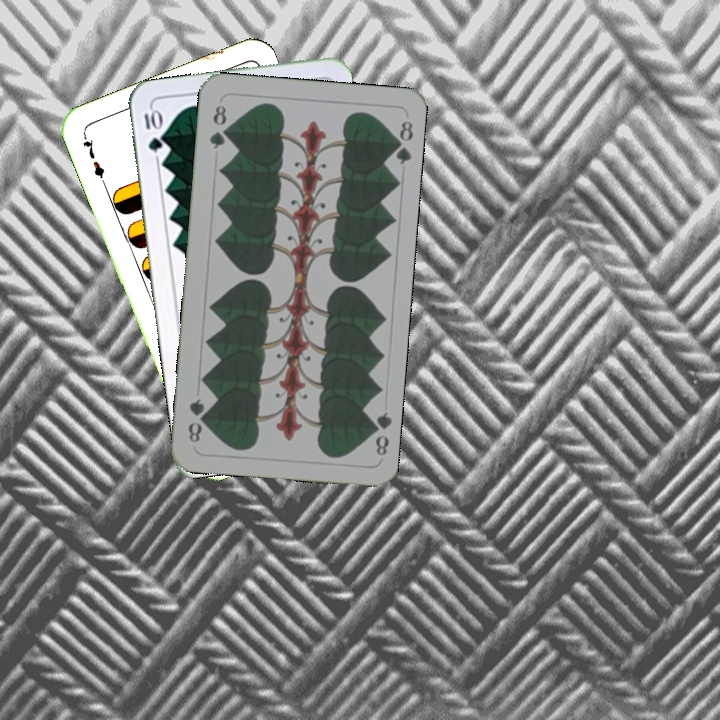E7: (78, 130, 108, 187)
G10: (140, 104, 165, 155)
G8: (365, 408, 393, 458), (205, 101, 230, 152)
